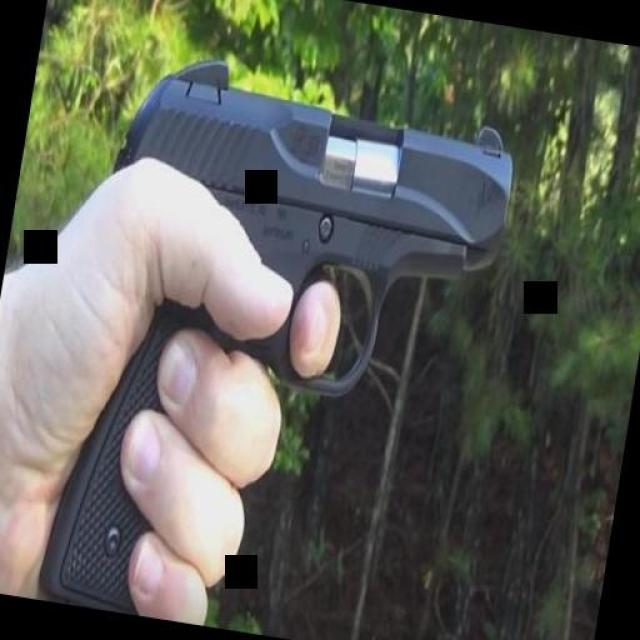gun: (29, 61, 518, 640)
